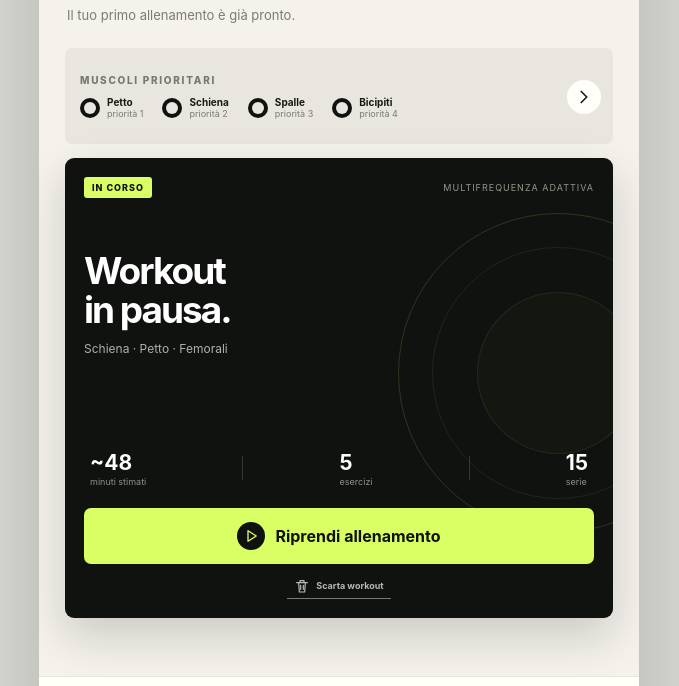
editing a set replaces the selected number and propagates only to later unfinished sets
(page scrolled)
Step 1. Click the button "Riprendi allenamento" → (339, 536), box [84, 508, 594, 564]
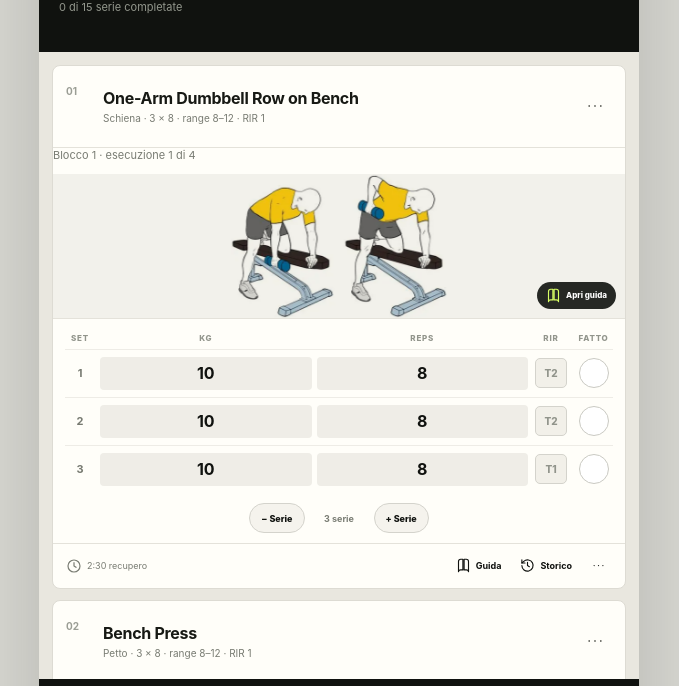
Step 2. Type "6" into the field named "Ripetizioni set 2" → (422, 421), box [316, 405, 528, 438]
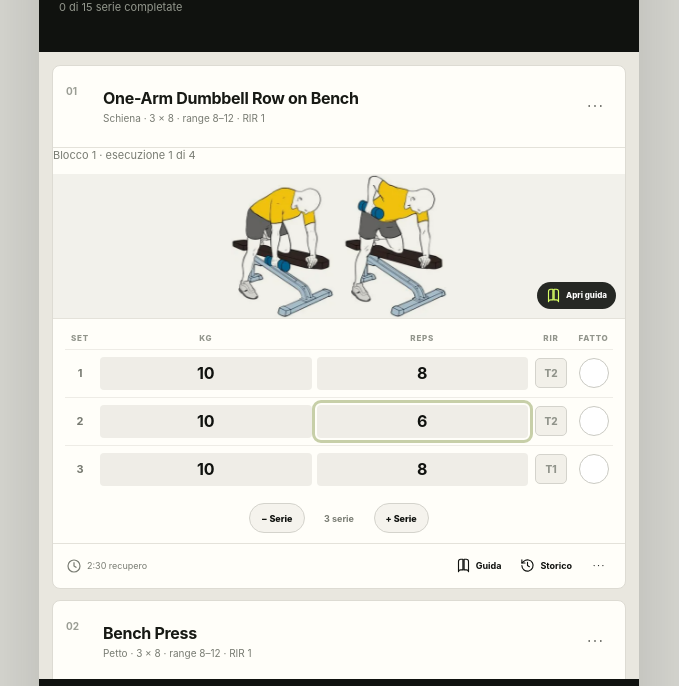
Step 3. Press Tab
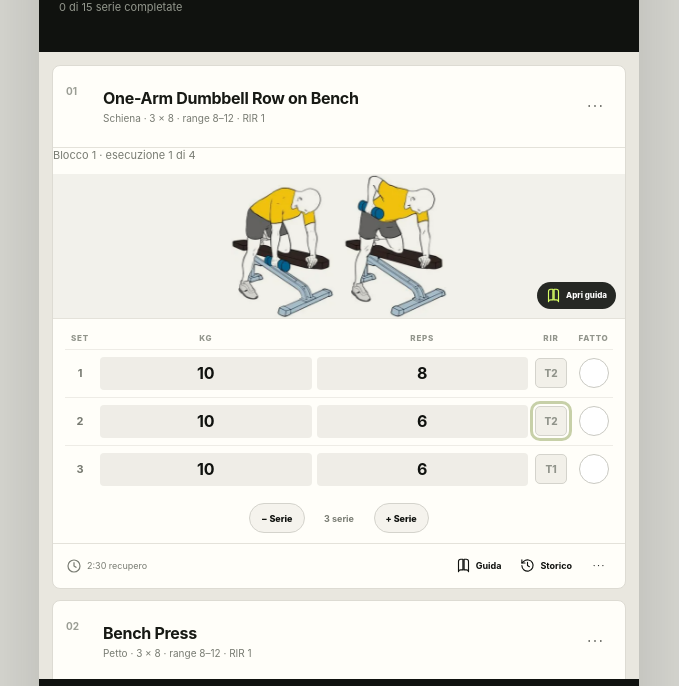
Expected: the field named "Ripetizioni set 1" holds "8", [316, 357, 528, 390]
Expected: the field named "Ripetizioni set 3" holds "6", [316, 453, 528, 486]
